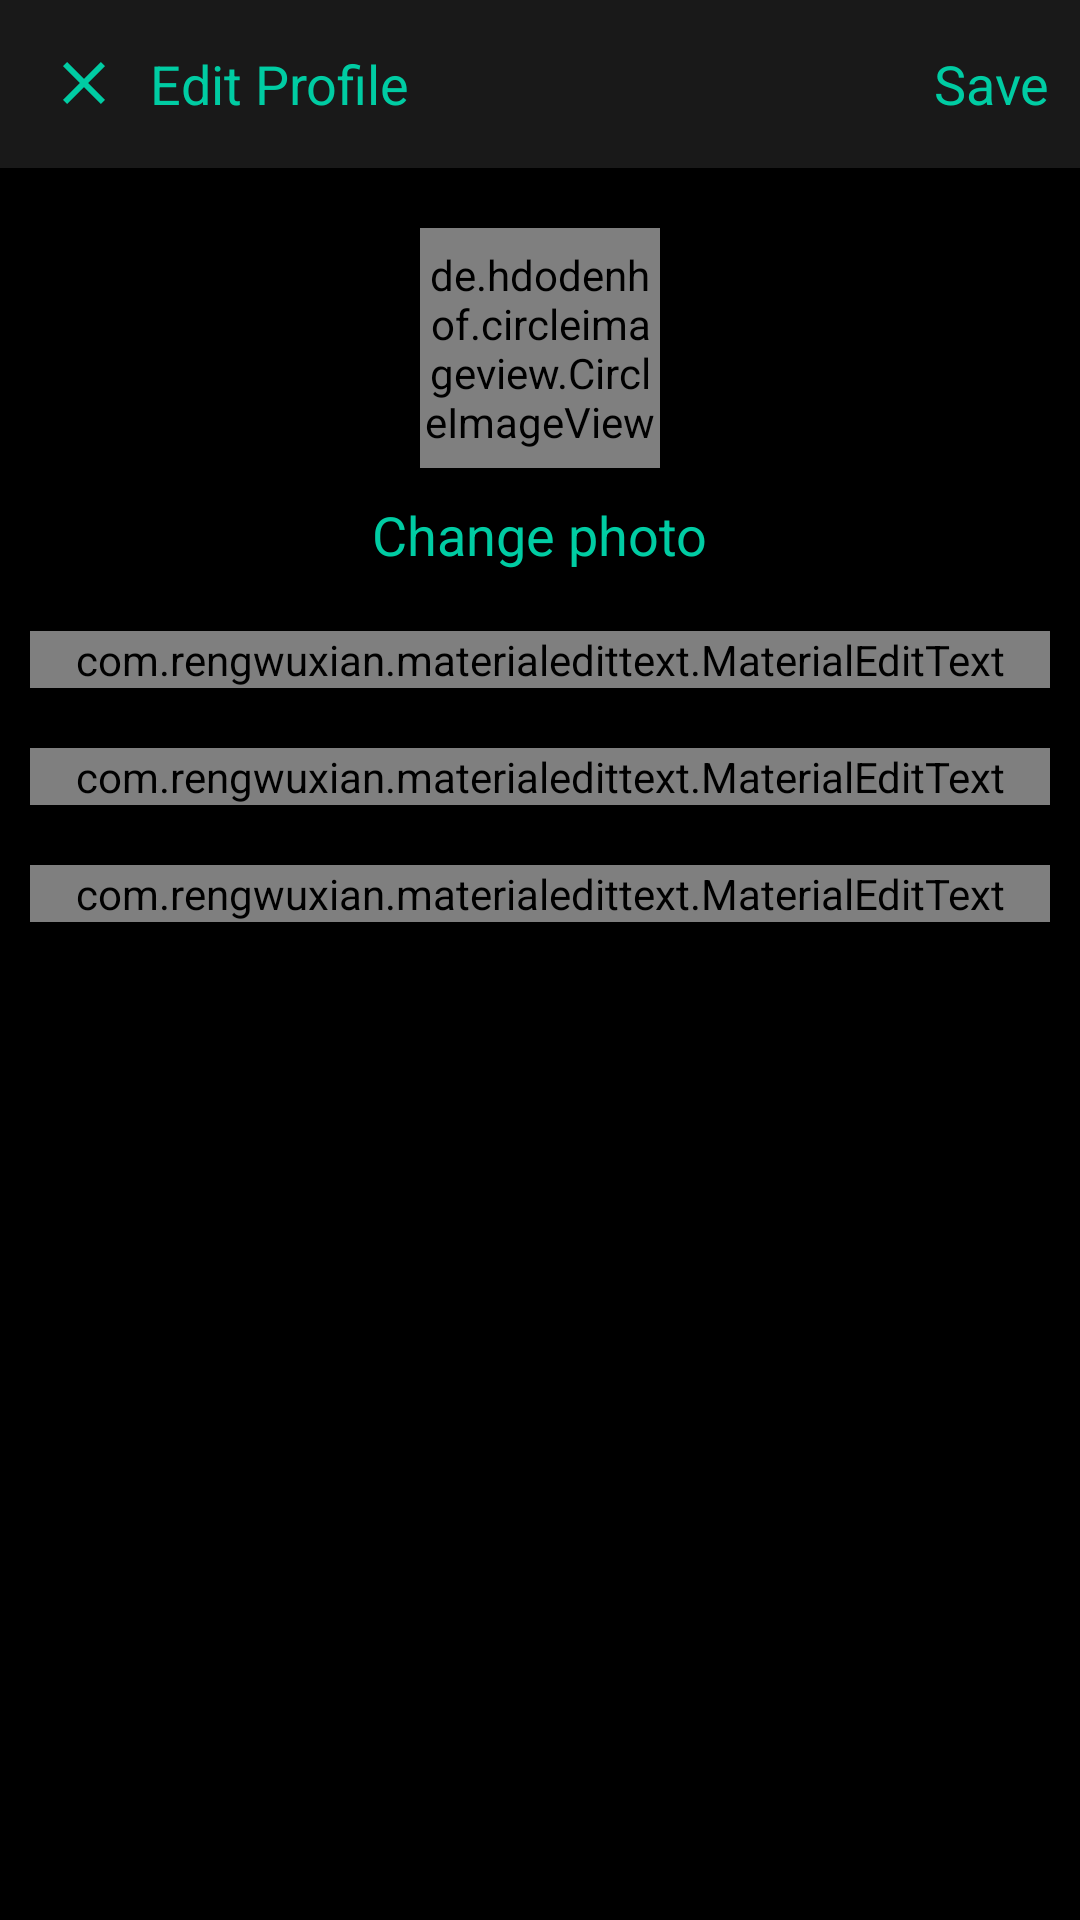

Locate icon controls on the screen. Image size 1080 × 1920, boxes as (x1, y1, x2, y2).
close: (63, 62, 105, 104)
